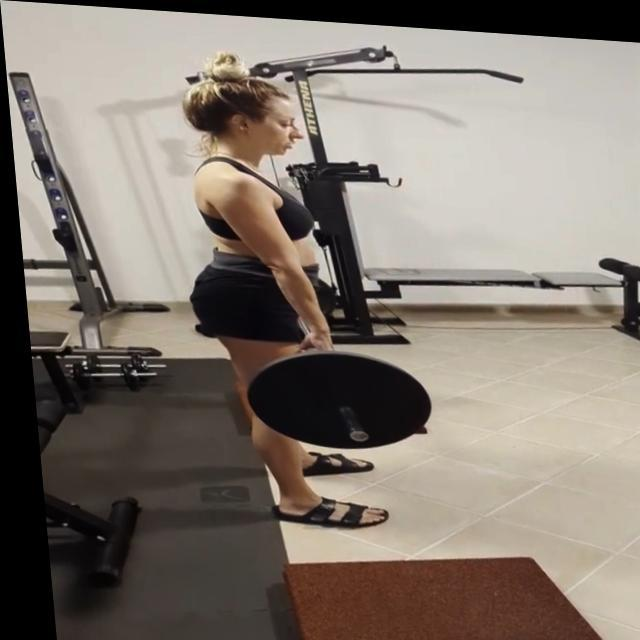barbell: (233, 338, 431, 451)
